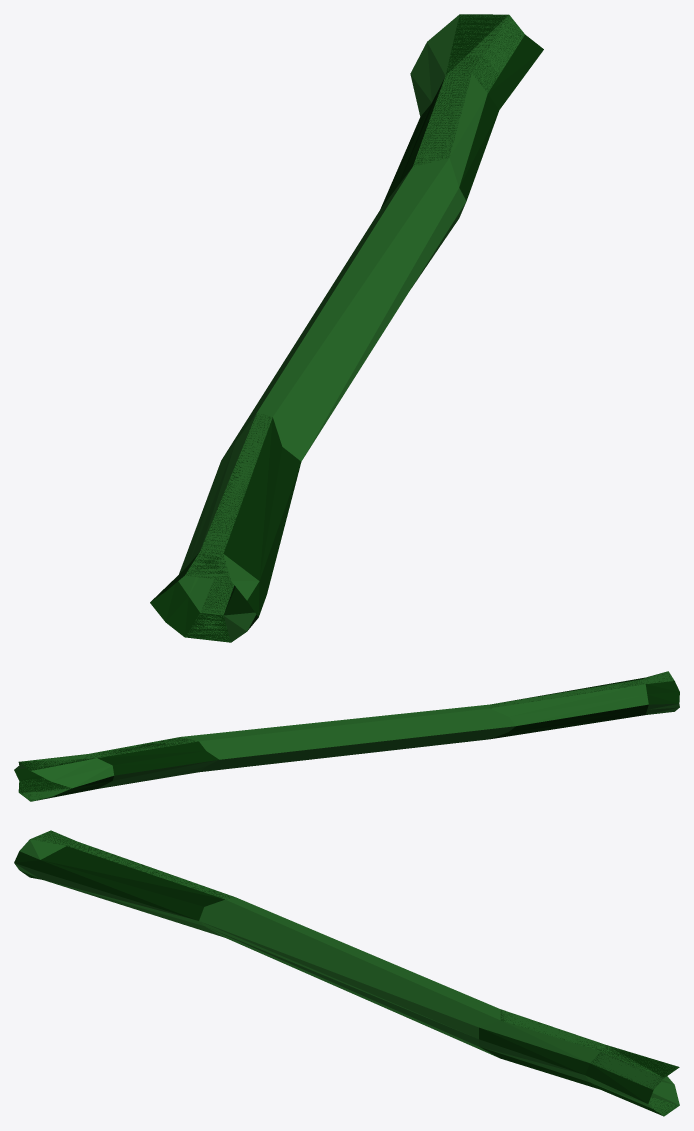
3 views of the same model, one above another, from view 1: azimuth 30°, elevation 25°; view 2: azimuth 150°, elevation 25°; view 3: azimuth 270°, elevation 25° (orthographic). The views are drawn at different scales.
Visible parts, largest first — view 1: 2344; view 2: 2344; view 3: 2344.
Part boxes in pixels (box(x1,y1,x2,y2)): 2344: box(150, 14, 543, 642); 2344: box(14, 671, 679, 801); 2344: box(14, 830, 679, 1116).
Size of the model in its own units: 117 by 8 by 126.
